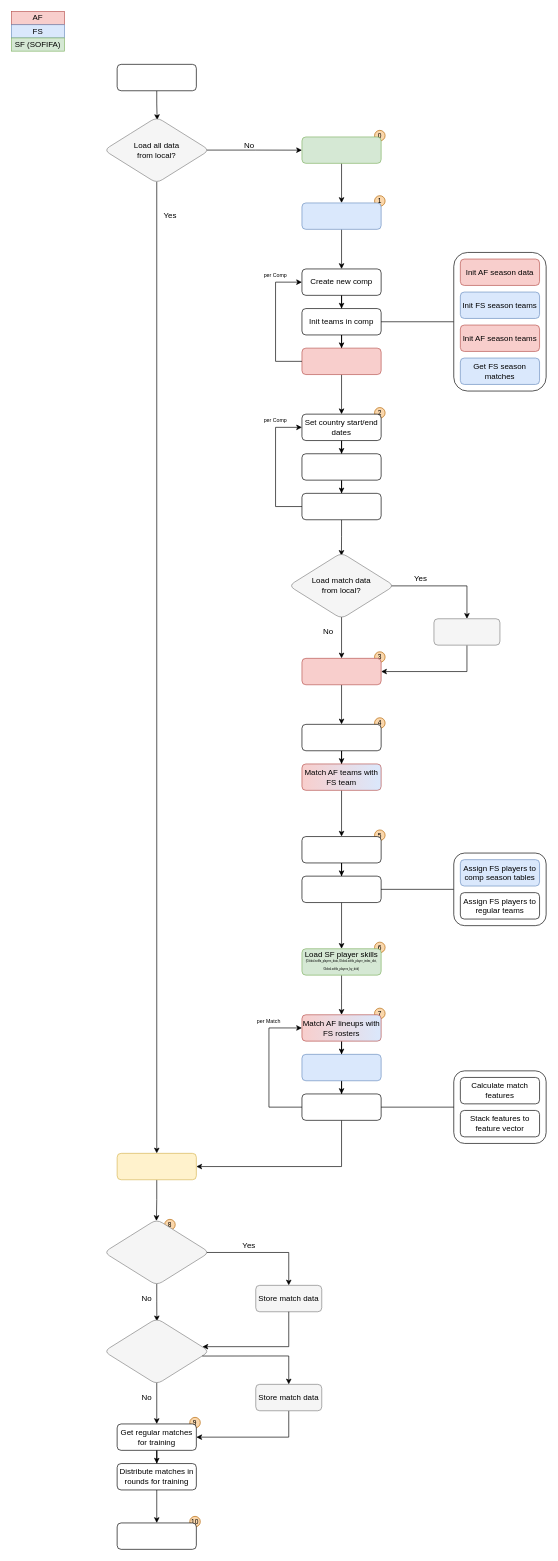
The diagram is 558 pixels wide and 1561 high, and some of its shapes have lost their labels. The box of each missing label's shape, as (x1, y1, x2, y2) in pixels:
<START>: (116, 64, 196, 91)
All data ready: (116, 1153, 196, 1180)
Create new comp season table: (301, 453, 381, 480)
Exclude irregular teams from table calc.: (301, 836, 381, 863)
Get all FS leagues (Global.fs_leagues_list): (301, 202, 381, 229)
Get FS match xG: (301, 1054, 381, 1081)
Get match features: (301, 1093, 381, 1120)
Get new match data (data, stats, lineups): (301, 658, 381, 685)
Init AF season rounds: (301, 347, 381, 375)
Init teams in tables: (301, 493, 381, 520)
Load average team strengths (Global.sf_avg_team_strength): (301, 136, 381, 163)
Load local match data: (433, 618, 500, 645)
Set FS player rosters: (301, 875, 381, 903)
Set team regularity: (301, 724, 381, 751)
Store all data locally?: (103, 1318, 210, 1384)
Store match data locally?: (103, 1219, 210, 1285)
Train: (116, 1522, 196, 1549)
